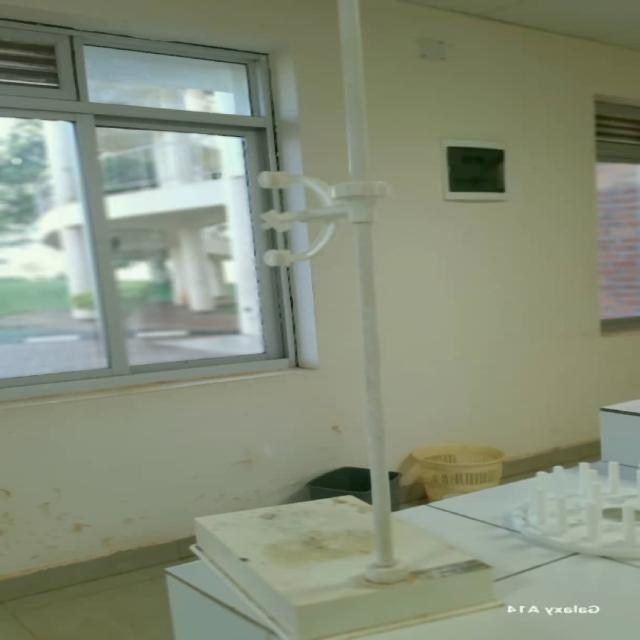Stand: (191, 6, 521, 640)
